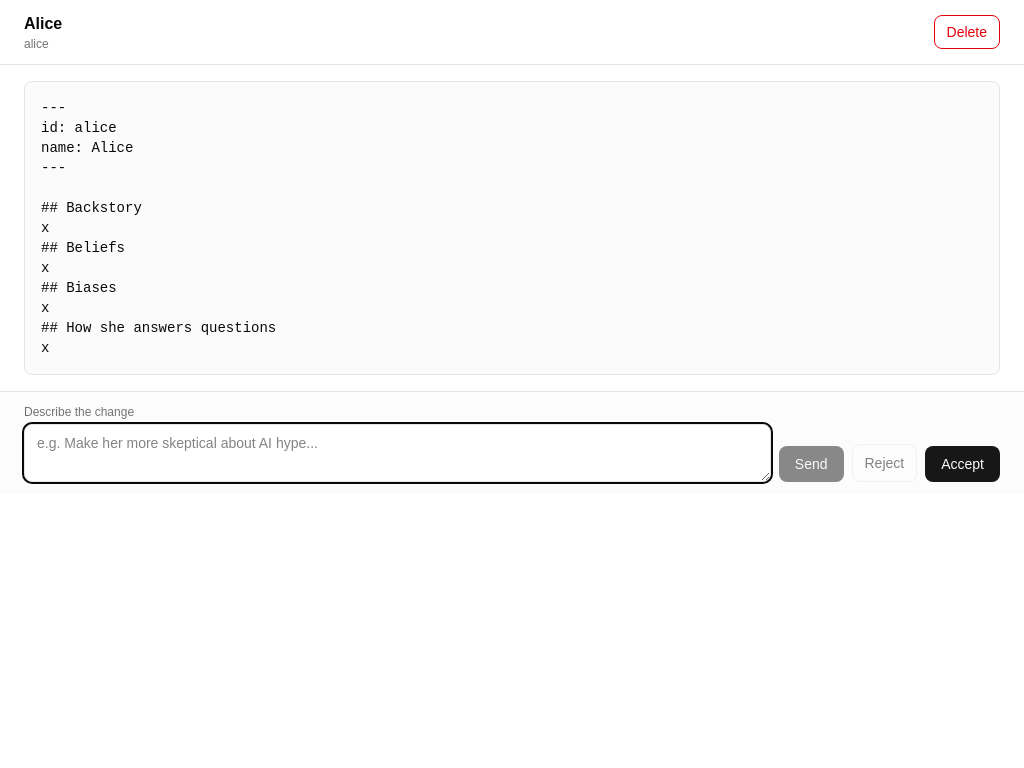
Test: EditorPage edit mode (persona) › Accept click when done.ok=false shows error message
Expected: the heading "Alice" is shown, [24,12,62,36]
In the text box: (397, 453) [24,424,771,482], type "x"
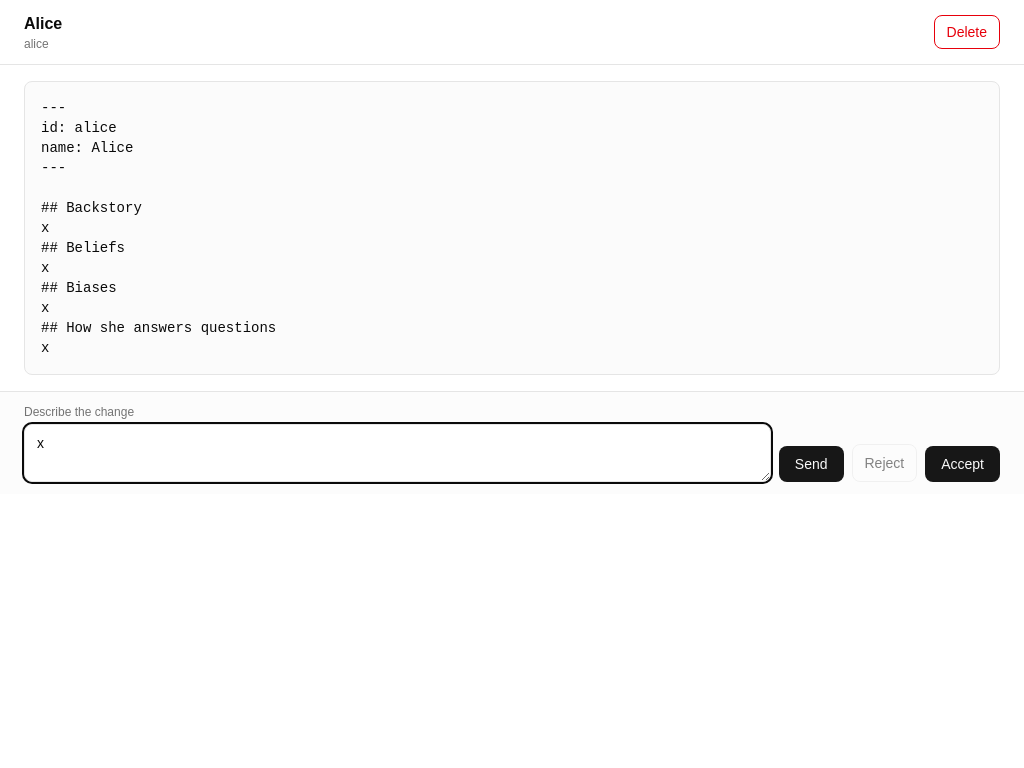
Click the button "Send": (811, 464) [779,446,844,482]
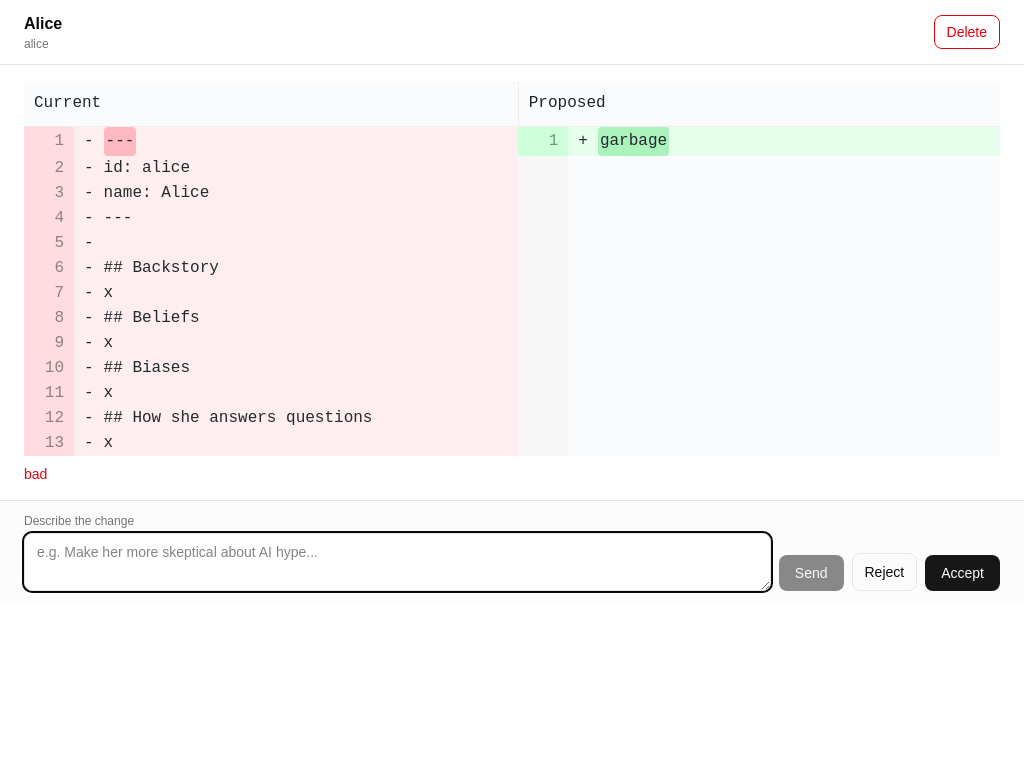
Now the text "bad" is shown, box [24,466,47,482]
// Accept is not disabled but clicking shows error
Click the button "Accept": (963, 573) [925,555,1000,591]
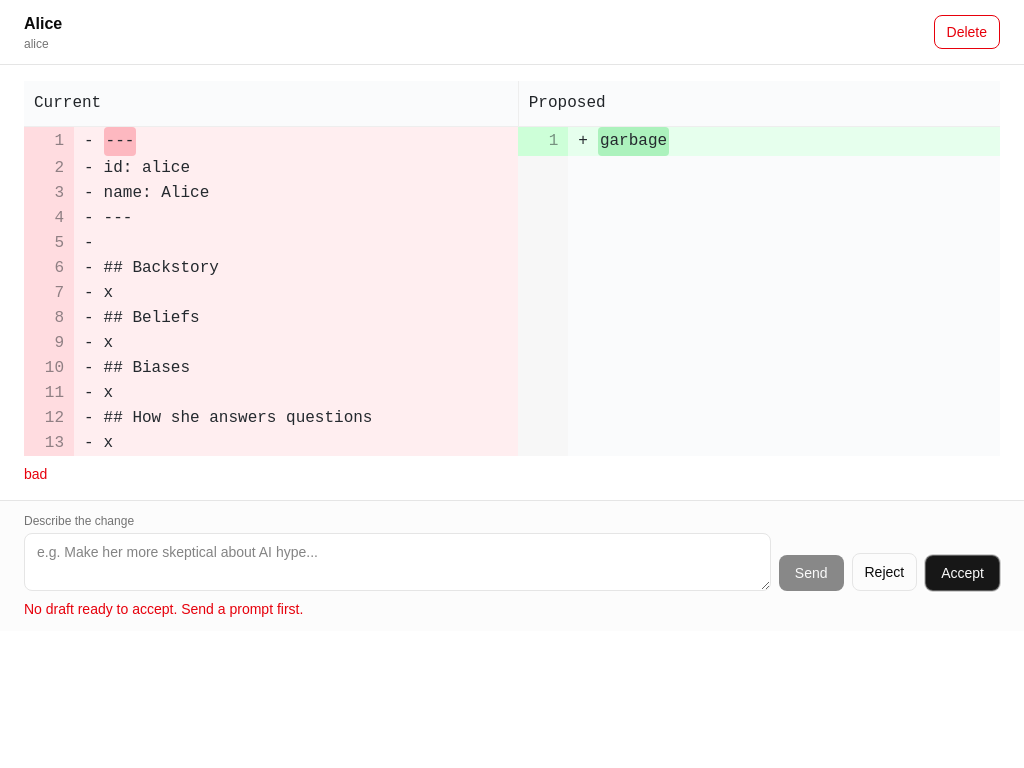
Now the text "No draft ready to accept. Send a prompt first." is shown, box [24,601,303,617]
